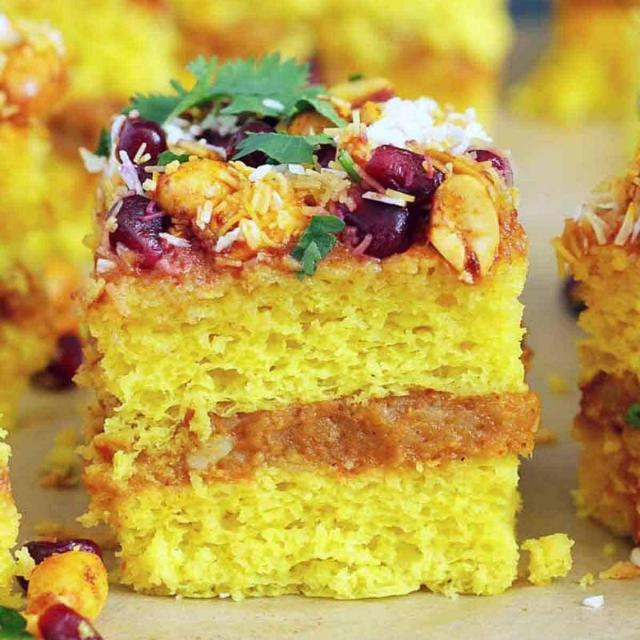dhokla: (9, 58, 597, 624)
